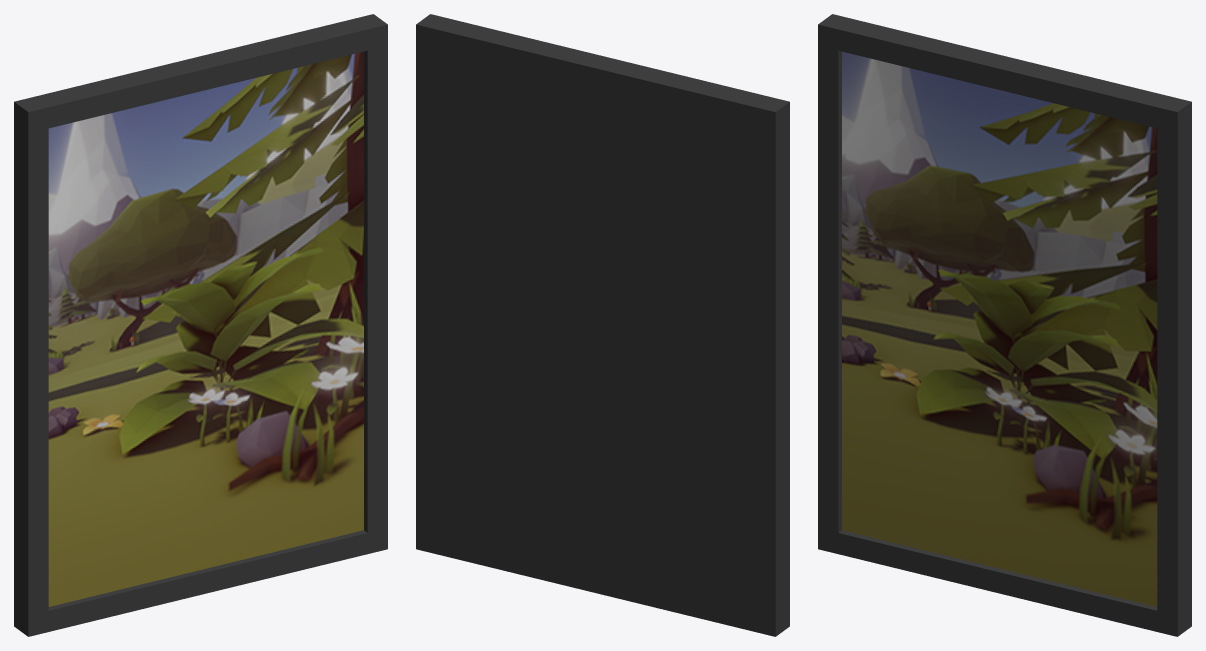
Rendered from Painting_17.fbx.
3 renders of one model, left to right at view 1: azimuth 30°, elevation 25°; view 2: azimuth 150°, elevation 25°; view 3: azimuth 330°, elevation 25°, orthographic.
Parts seen in each view (by area): view 1: Painting_17; view 2: Painting_17; view 3: Painting_17.
Part boxes in pixels (box(x1,y1,x2,y2)): Painting_17: box(14, 14, 387, 636); Painting_17: box(416, 14, 789, 636); Painting_17: box(818, 14, 1191, 636).
Size of the model in its own units: 45.37 by 63.27 by 3.14.
